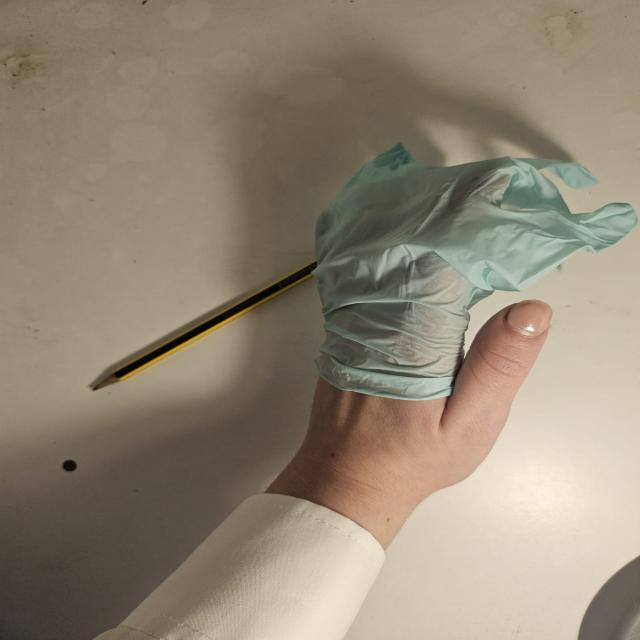glove_partial: (308, 139, 640, 493)
